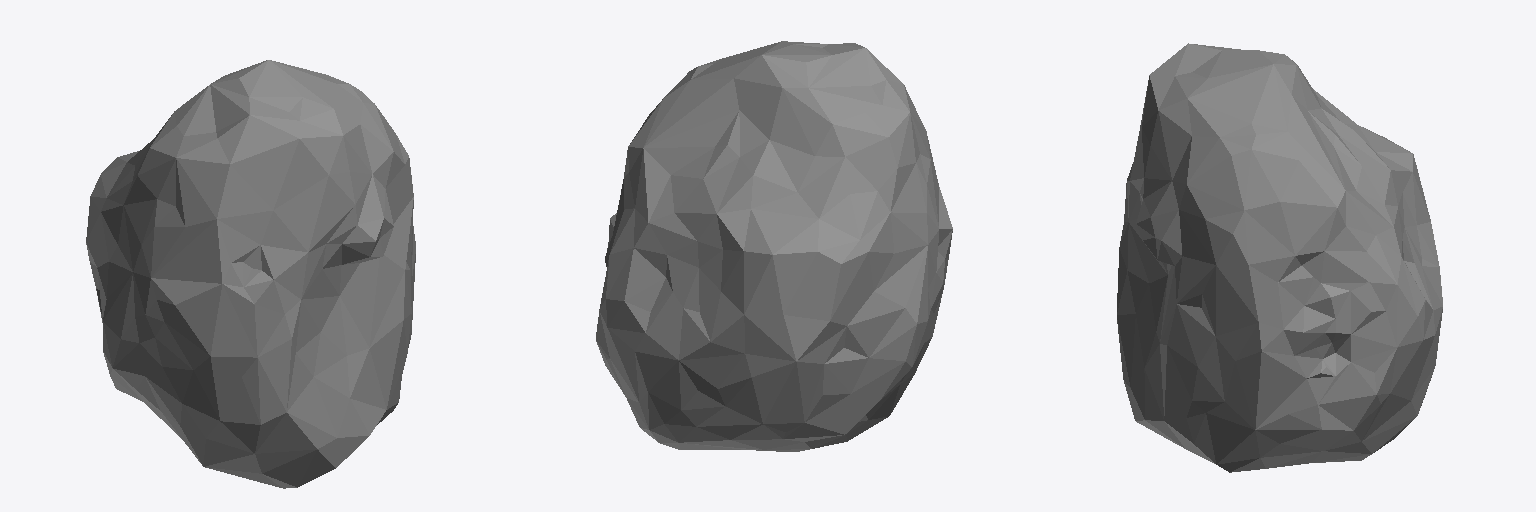
File: Rock.obj
3 renders of one model, left to right at view 1: azimuth 30°, elevation 25°; view 2: azimuth 150°, elevation 25°; view 3: azimuth 270°, elevation 25°, orthographic.
Parts seen in each view (by area): view 1: RockLP; view 2: RockLP; view 3: RockLP.
Part boxes in pixels (bbox=[...]): RockLP: bbox=[86, 60, 415, 488]; RockLP: bbox=[596, 41, 952, 451]; RockLP: bbox=[1117, 43, 1442, 472].
Size of the model in its own units: 39.63 by 49.2 by 37.09.